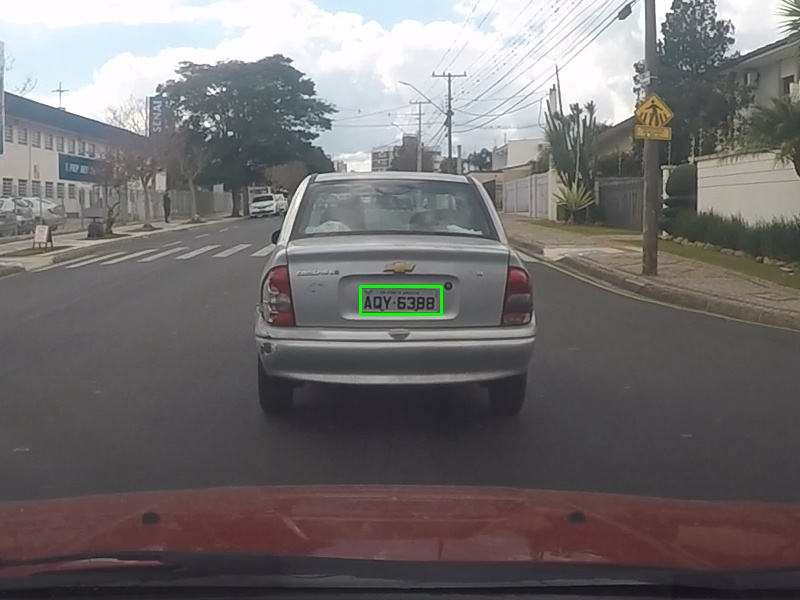placa: (360, 286, 441, 314)
